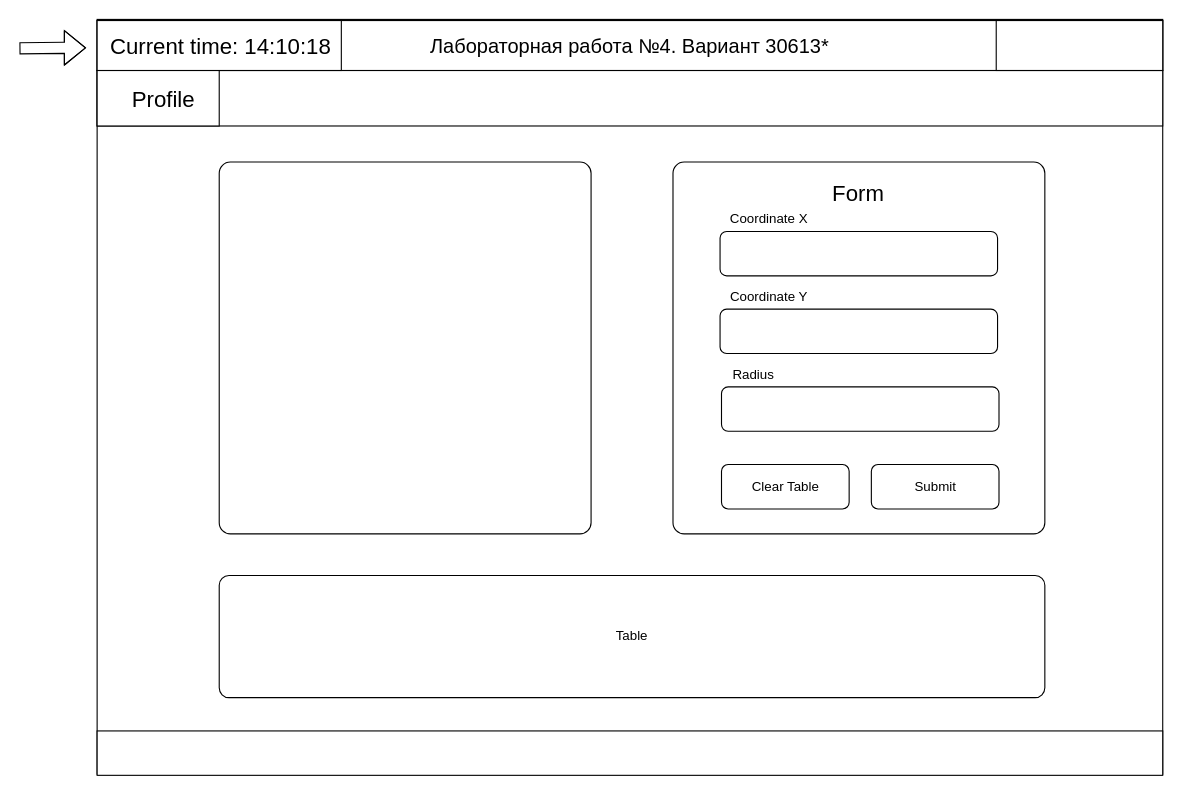
Some shapes in this 1182 by 795 pixel diagram are drawn without their labels. The shapes that lost their labels are listed below. From the top down, each one's centre as x and y in pixels, then its label:
At pixel 1079 44: "Github".
At pixel 404 347: "SVG".
At pixel 629 752: "@Web-programming".
